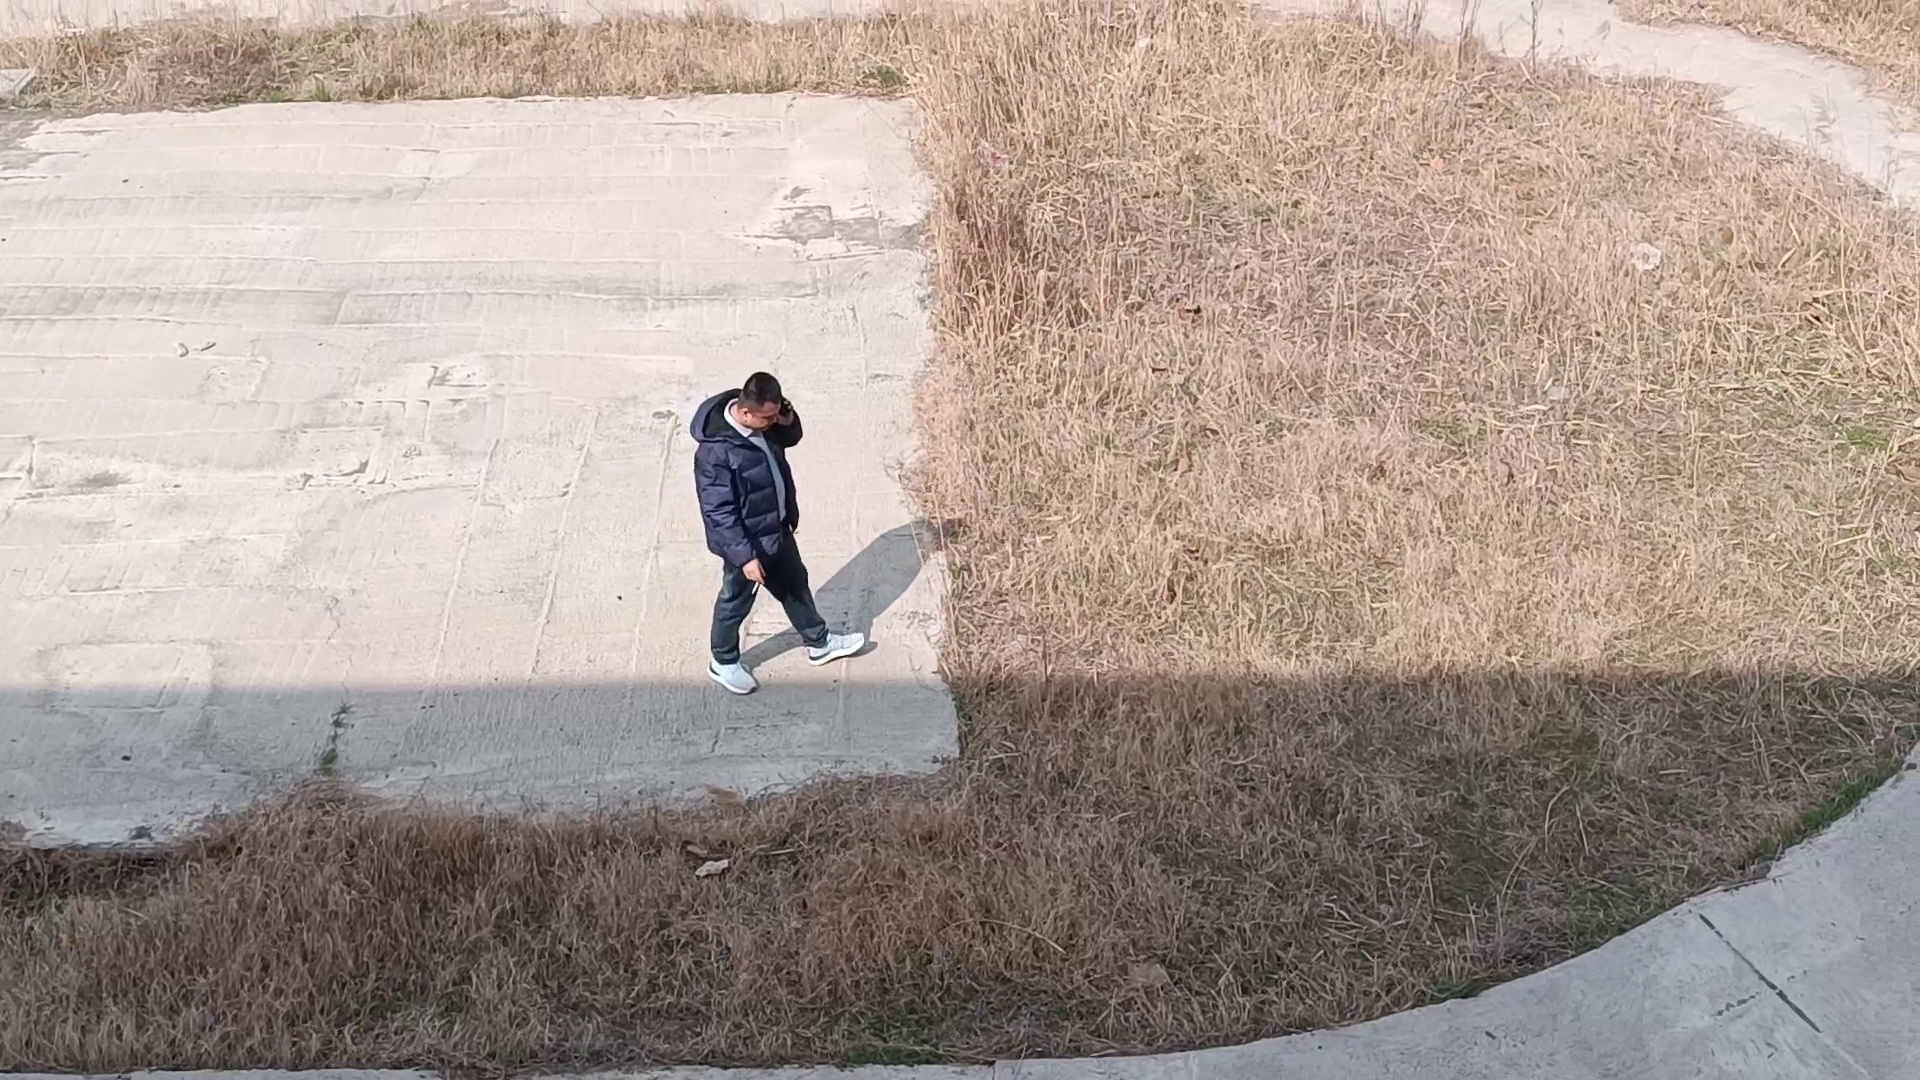phone: (738, 371, 808, 444)
